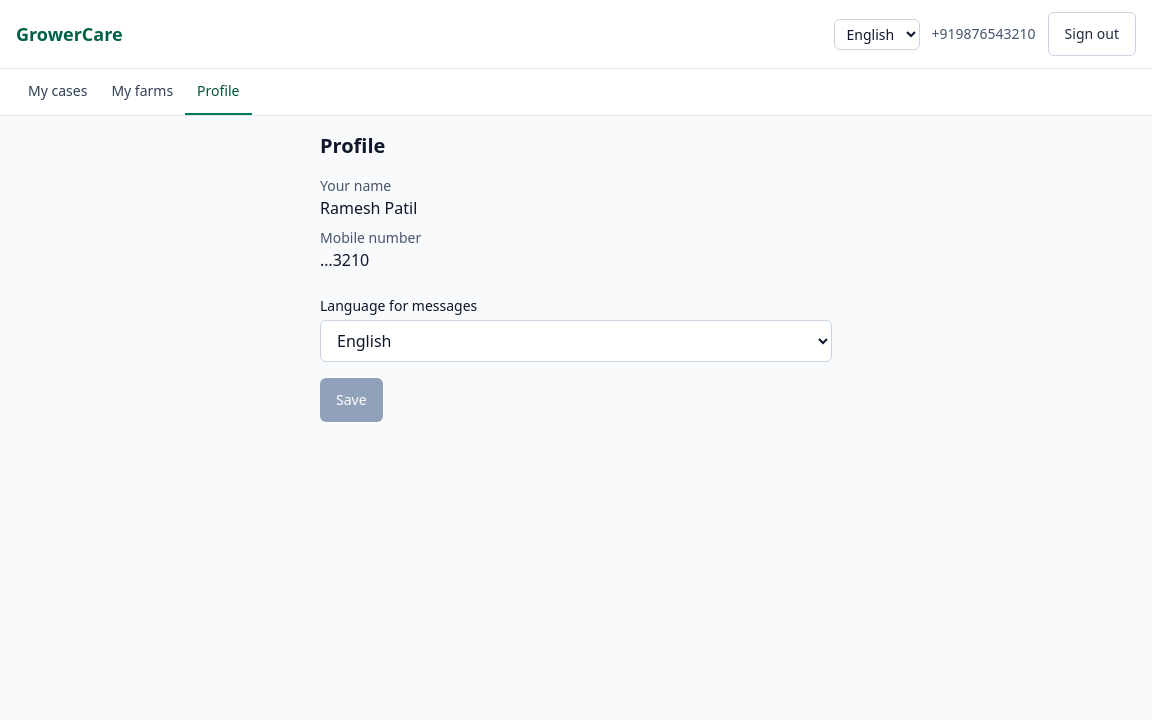
SPEC-FE-02 R109 profile › FE-E109 changed on another device (412): told so, offered a reload
Later steps or results of the test are not shown.
Select "मराठी" in the dropdown labelled "Language for messages". click: (576, 341)
box: [320,320,832,362]
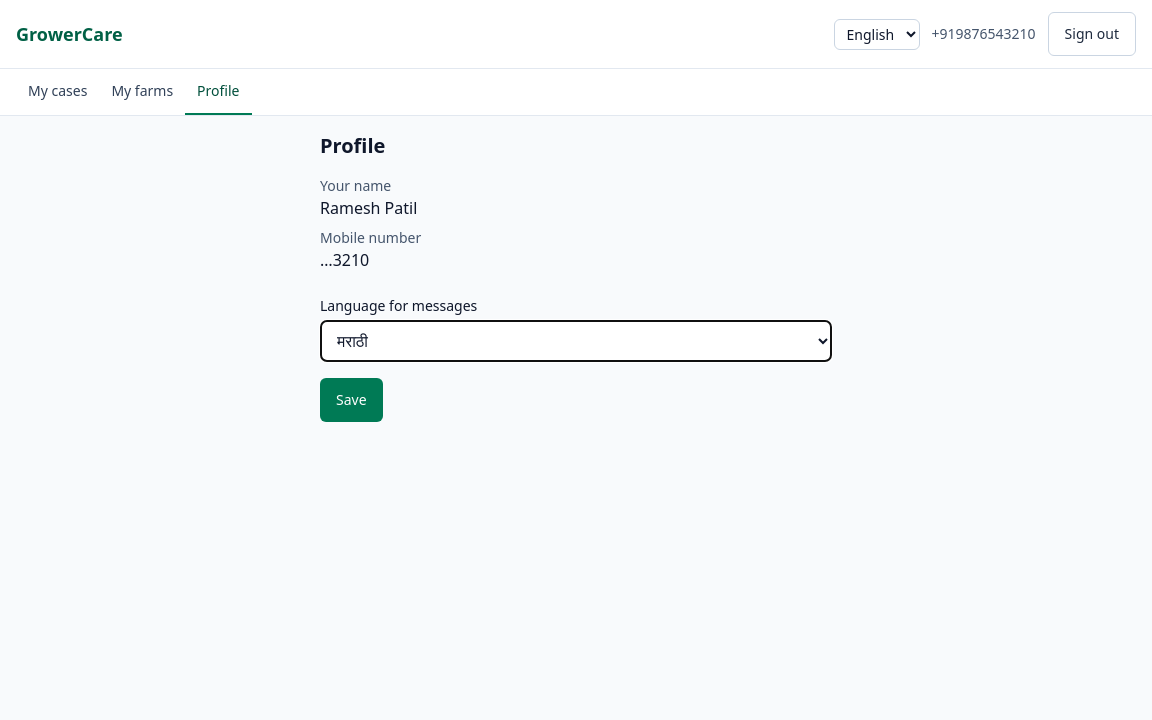
Click the button "Save". click: (351, 400)
box: [320,378,383,422]
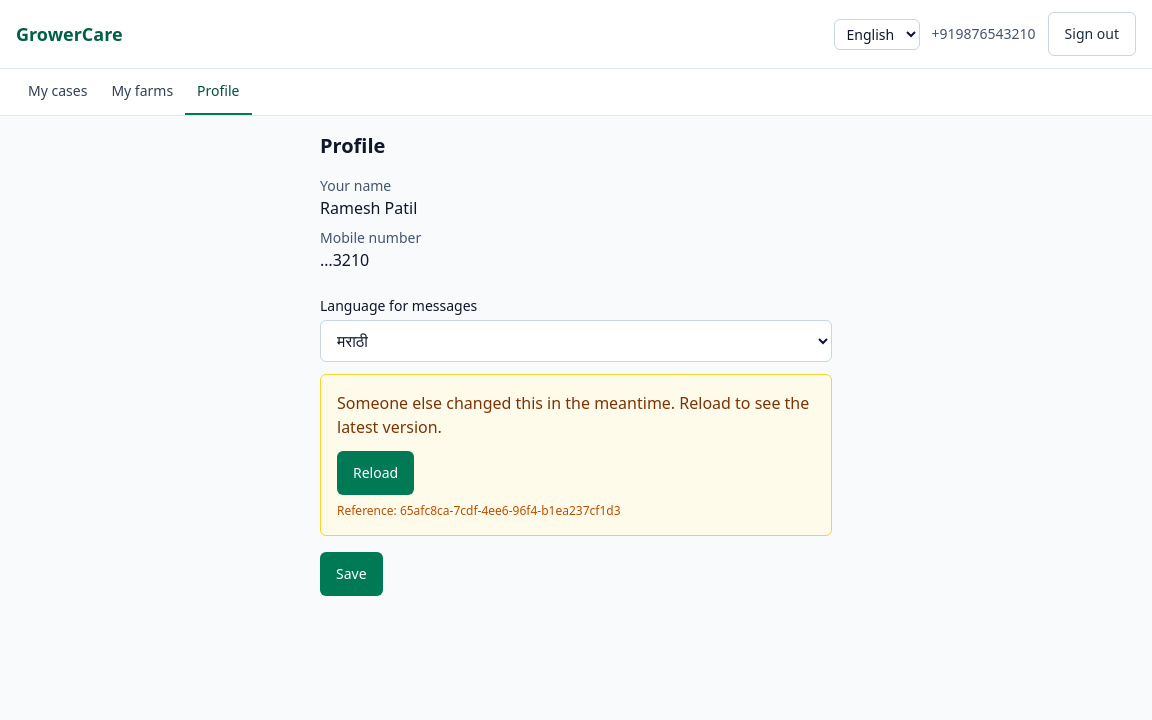
Check: the text "Someone else changed this" is shown, box [337,392,809,438]
